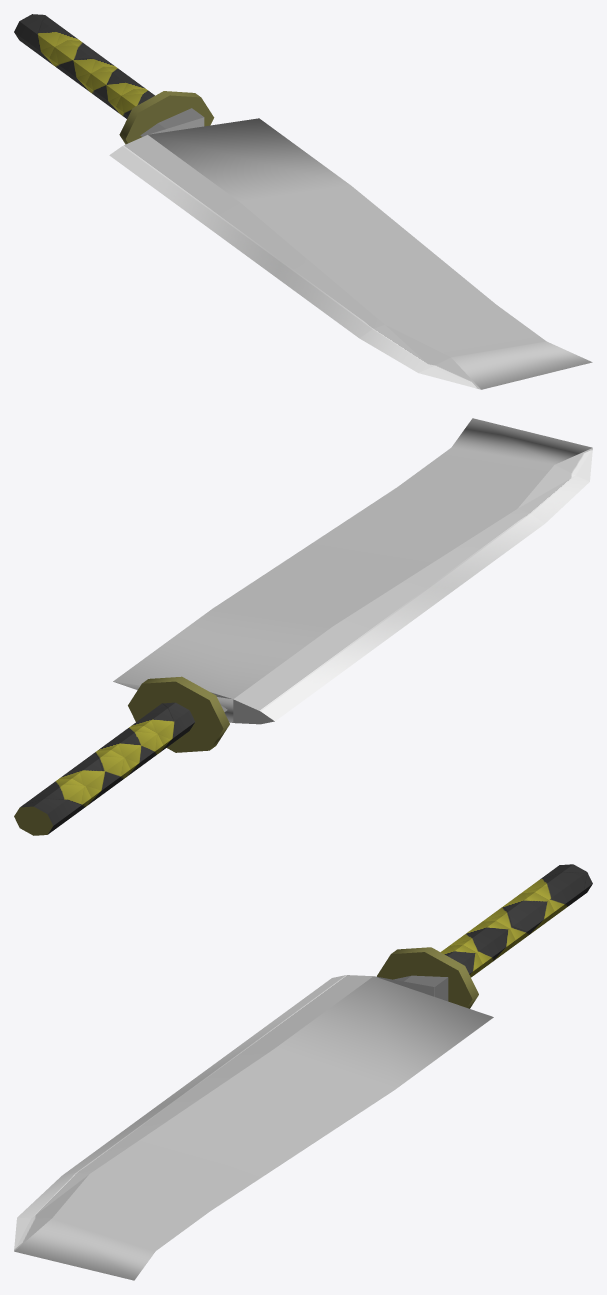
The model's file is kubikiribocho.fbx.
The picture shows the model from 3 angles, top to bottom: view 1: azimuth 30°, elevation 25°; view 2: azimuth 150°, elevation 25°; view 3: azimuth 330°, elevation 25°; orthographic projection. The views are drawn at different scales.
Parts seen in each view (by area): view 1: Katana; view 2: Katana; view 3: Katana.
Part boxes in pixels (box(x1,y1,x2,y2)): Katana: box(14, 14, 592, 389); Katana: box(14, 418, 592, 835); Katana: box(14, 864, 592, 1280).
Bounding box in the file's own units: 78.43 × 32.95 × 437.
